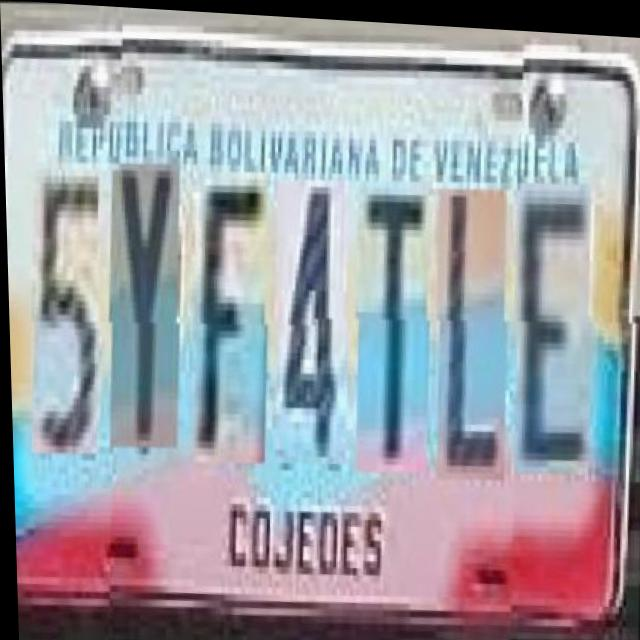4: (271, 177, 360, 467)
5: (28, 160, 113, 450)
e: (509, 185, 603, 484)
f: (188, 168, 279, 465)
l: (432, 185, 518, 482)
t: (351, 177, 442, 474)
y: (106, 160, 192, 450)
